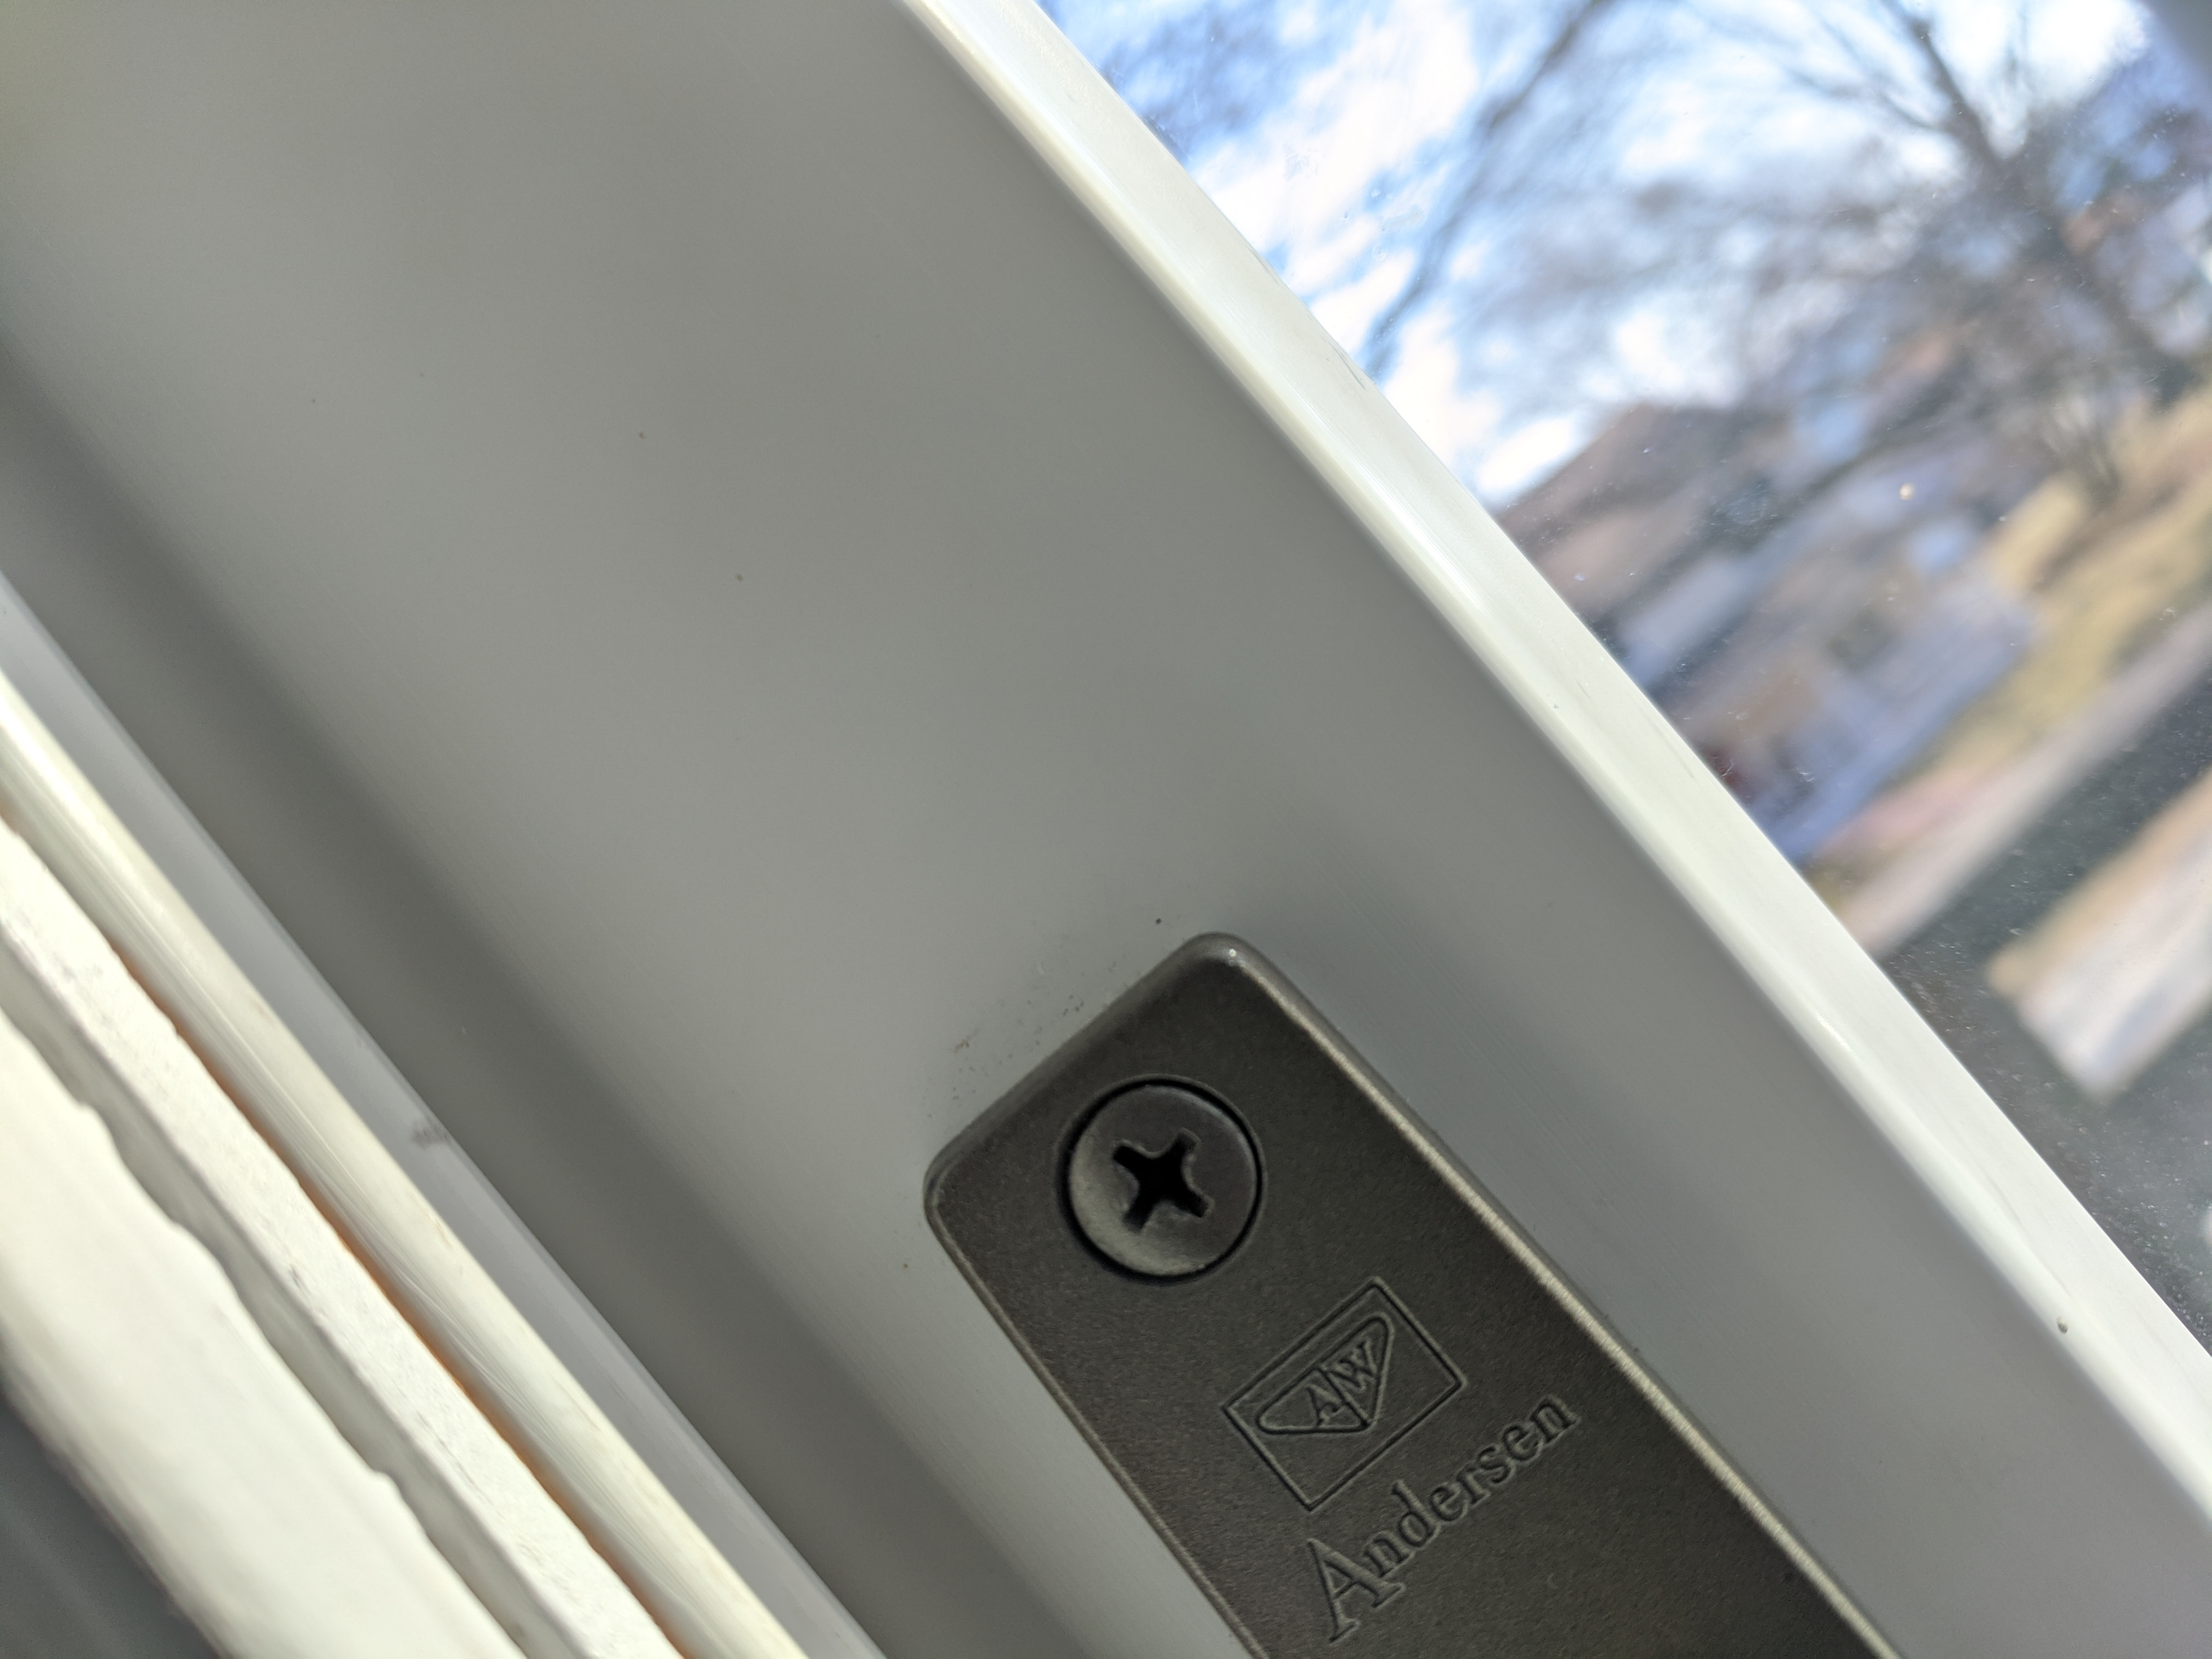cross_recessed_screw: (1071, 1061, 1264, 1276)
